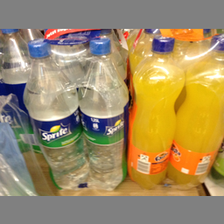soda: (22, 38, 89, 188), (128, 36, 185, 188), (169, 34, 224, 184), (77, 38, 130, 188)
